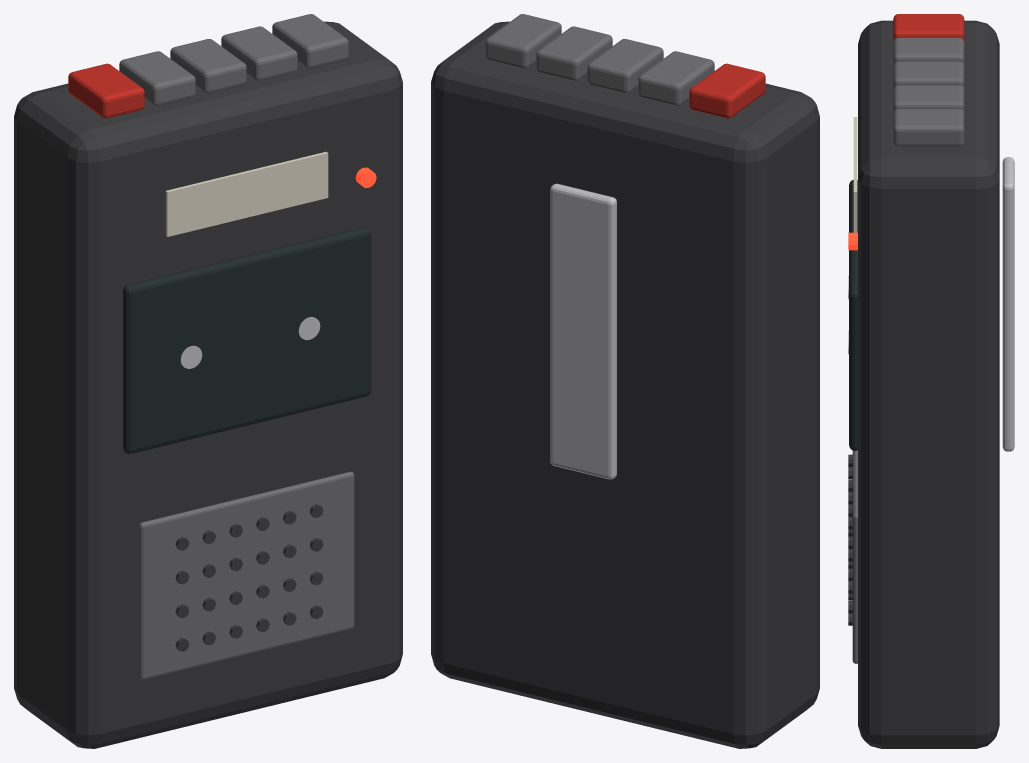
File: dictaphone.glb
The picture shows the model from 3 angles, left to right: view 1: azimuth 30°, elevation 25°; view 2: azimuth 150°, elevation 25°; view 3: azimuth 270°, elevation 25°; orthographic projection. The views are drawn at different scales.
Visible parts, largest first — view 1: telo, okenko, mrizka, stitek, tlacitko, tlacitko.003, tlacitko.001, tlacitko.002, tlacitko.004; view 2: telo, klip, tlacitko, tlacitko.003, tlacitko.001, tlacitko.002, tlacitko.004; view 3: telo, klip, tlacitko.004, okenko, tlacitko.001, tlacitko.002, tlacitko.003, tlacitko, mrizka, stitek.
Boxes of the visible parts, x1,y1,x2,y2 form: telo: [14, 21, 402, 748]; okenko: [123, 227, 371, 453]; mrizka: [138, 471, 354, 679]; stitek: [165, 151, 328, 236]; tlacitko: [68, 63, 144, 118]; tlacitko.003: [221, 26, 297, 81]; tlacitko.001: [119, 51, 195, 106]; tlacitko.002: [170, 39, 246, 93]; tlacitko.004: [272, 14, 348, 68]; telo: [431, 21, 819, 748]; klip: [550, 183, 616, 479]; tlacitko: [689, 63, 765, 118]; tlacitko.003: [536, 26, 612, 81]; tlacitko.001: [638, 51, 714, 106]; tlacitko.002: [587, 39, 663, 93]; tlacitko.004: [485, 14, 561, 68]; telo: [858, 20, 999, 748]; klip: [1002, 157, 1014, 451]; tlacitko.004: [893, 109, 964, 146]; okenko: [849, 180, 857, 450]; tlacitko.001: [893, 37, 964, 65]; tlacitko.002: [893, 61, 964, 88]; tlacitko.003: [893, 85, 964, 112]; tlacitko: [893, 14, 964, 41]; mrizka: [852, 450, 857, 663]; stitek: [853, 117, 857, 232].
Bounding box in the file's own units: 0.062 × 0.1138 × 0.0281.
